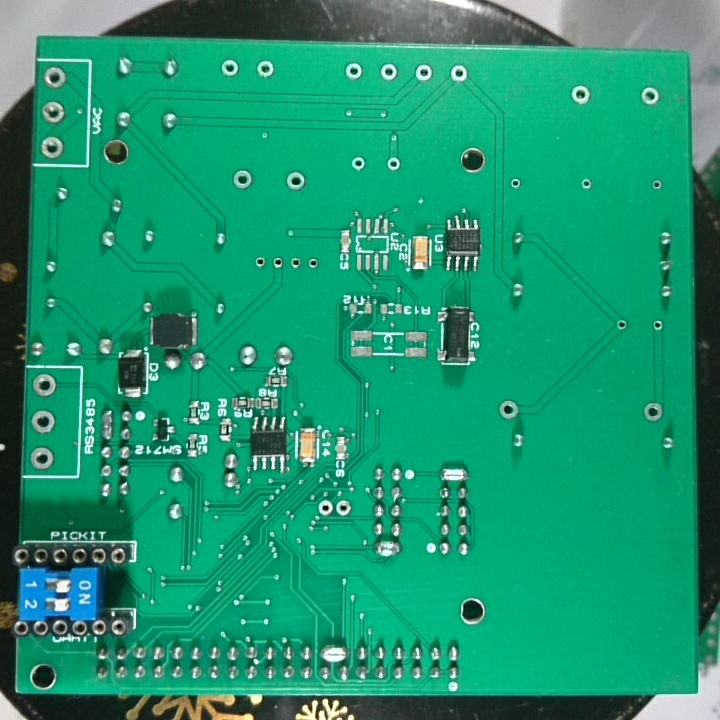F: (28, 406, 57, 436), (28, 443, 59, 471), (228, 164, 256, 193), (283, 167, 313, 193), (42, 63, 68, 92), (31, 370, 57, 398), (639, 398, 665, 425), (39, 133, 65, 159), (41, 98, 66, 125), (637, 83, 662, 109), (496, 397, 522, 422), (340, 59, 365, 83), (412, 60, 436, 85), (568, 80, 592, 104), (253, 58, 275, 83), (377, 60, 399, 85), (217, 58, 239, 80), (448, 60, 468, 84), (333, 498, 354, 520), (348, 150, 368, 173), (384, 153, 403, 175), (315, 498, 334, 520), (305, 254, 322, 275), (251, 252, 267, 273), (649, 314, 665, 335), (268, 254, 285, 273), (648, 175, 665, 194), (613, 315, 629, 335), (288, 252, 302, 274), (577, 174, 592, 194), (508, 173, 522, 194)
P: (317, 641, 350, 664), (437, 462, 470, 484), (373, 538, 402, 559), (99, 404, 115, 442)
